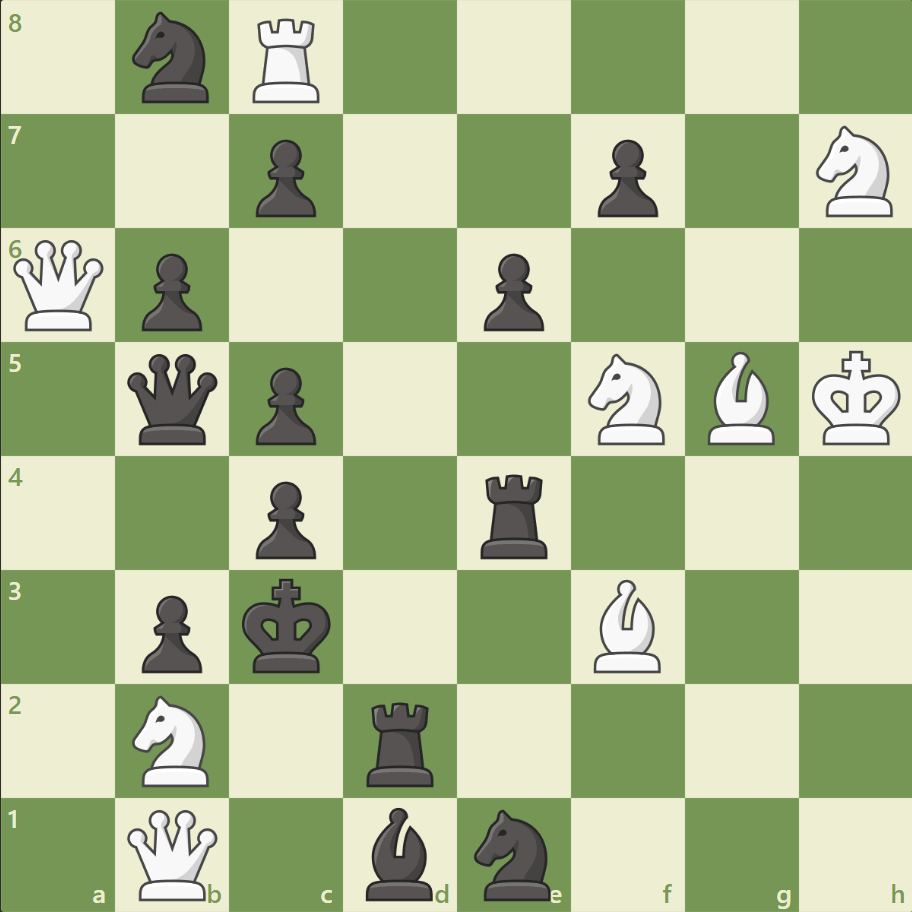B: (698, 347, 782, 449), (585, 574, 669, 676)
K: (806, 344, 906, 452)
N: (124, 688, 222, 791), (806, 121, 903, 223), (579, 348, 676, 450)
Q: (10, 236, 109, 335), (124, 804, 223, 903)
R: (246, 12, 329, 109)
b: (358, 801, 442, 904)
k: (238, 571, 338, 679)
n: (124, 7, 222, 110), (465, 802, 562, 904)
p: (247, 132, 322, 223), (133, 246, 208, 337), (474, 246, 549, 337), (247, 359, 322, 450), (247, 473, 322, 564), (133, 586, 208, 677), (588, 132, 662, 223)
q: (124, 349, 223, 449)
r: (473, 466, 556, 563), (360, 693, 442, 790)
